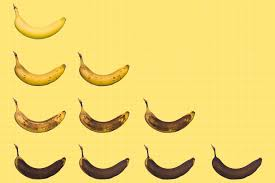banana: (6, 142, 71, 183), (6, 2, 71, 42), (8, 48, 69, 90), (10, 97, 71, 139), (140, 141, 200, 183), (74, 141, 133, 183), (140, 97, 198, 138), (75, 50, 132, 91), (209, 142, 266, 183), (76, 97, 132, 138)
